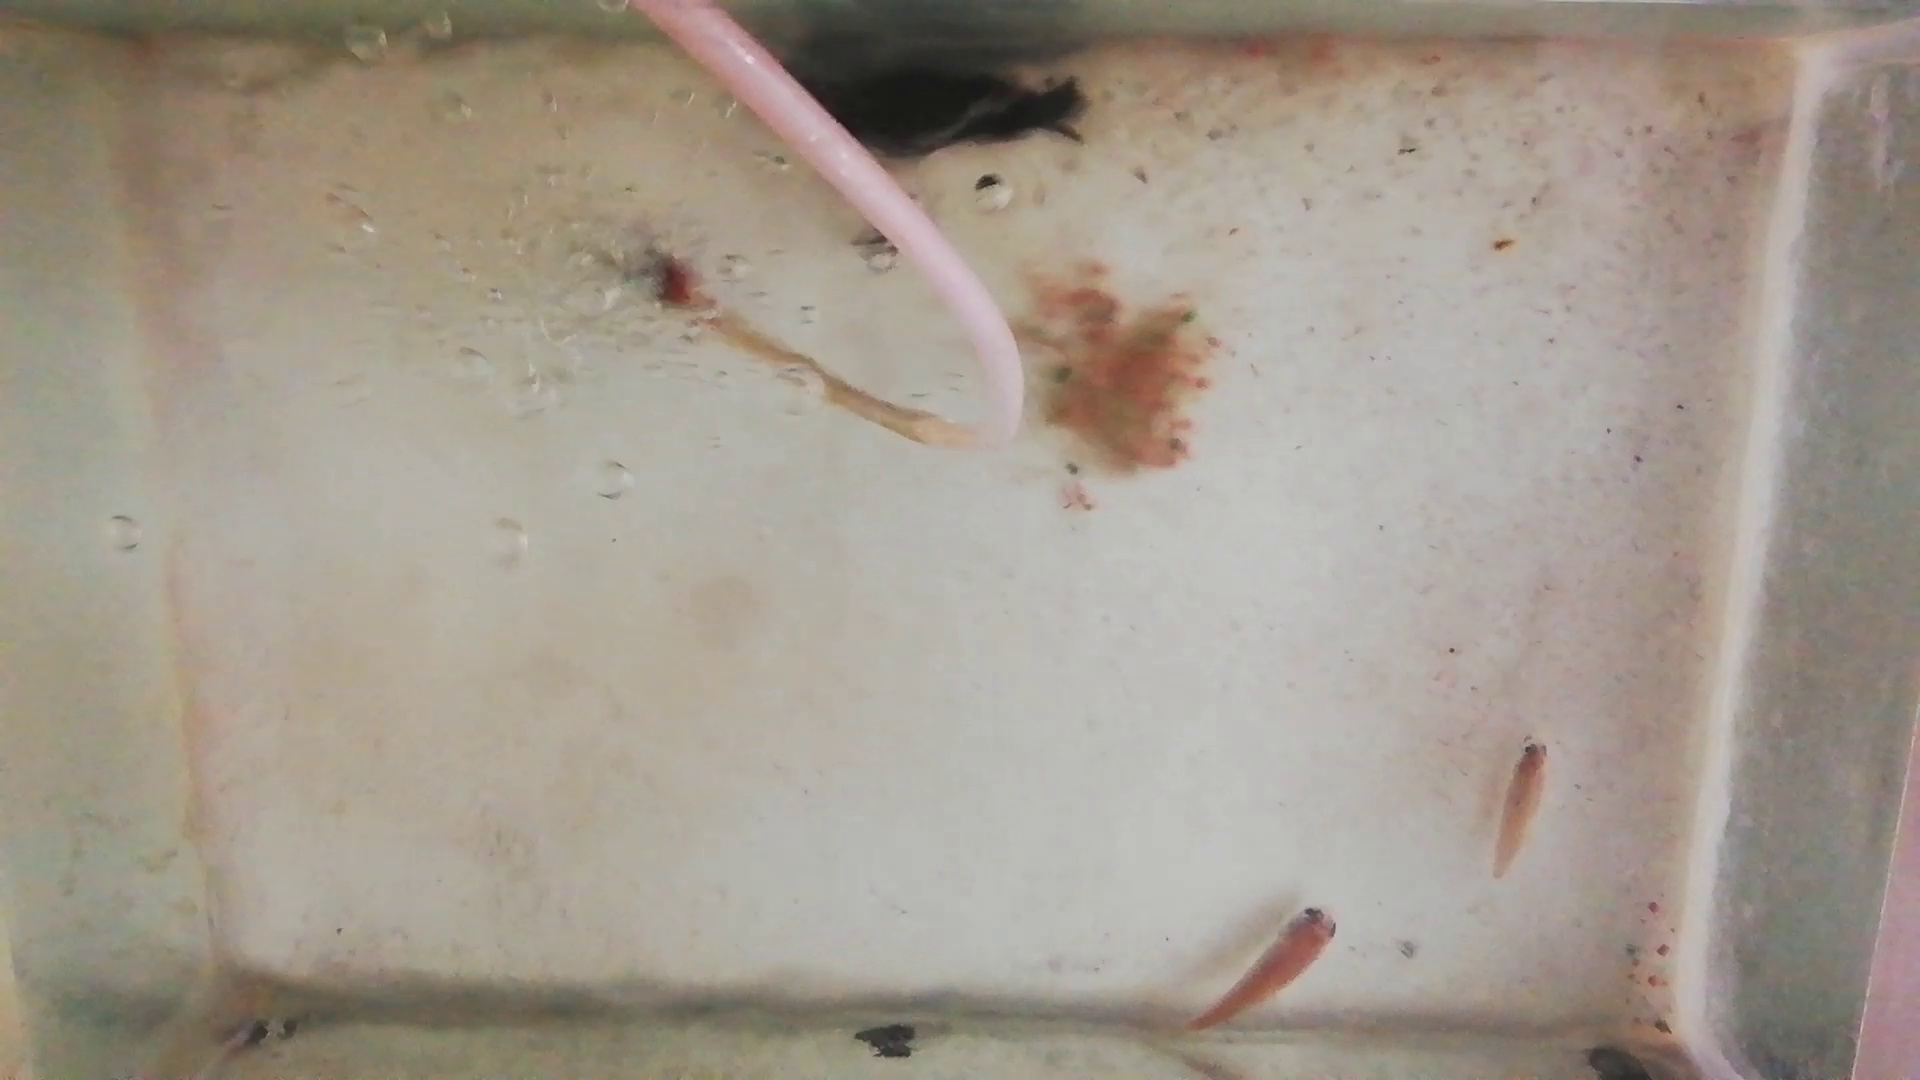fish: (1187, 906, 1342, 1033), (1491, 742, 1549, 881)
